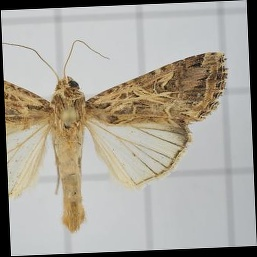Spodoptera litura: (6, 38, 233, 230)
